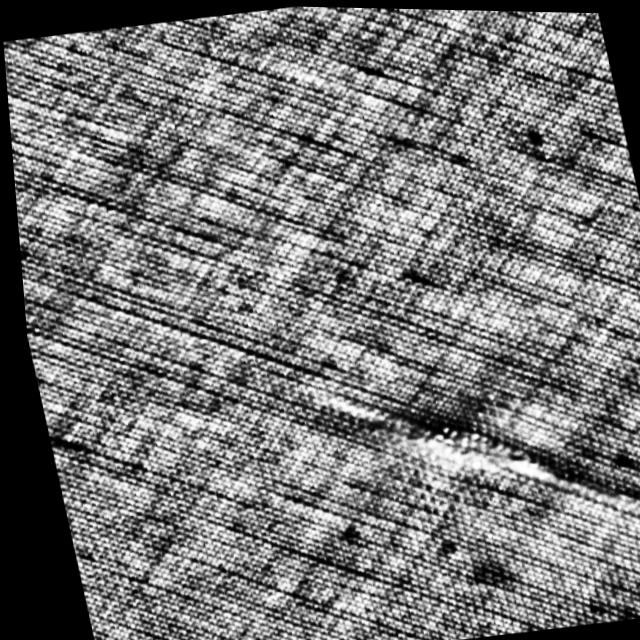Stitch: (384, 391, 577, 506)
